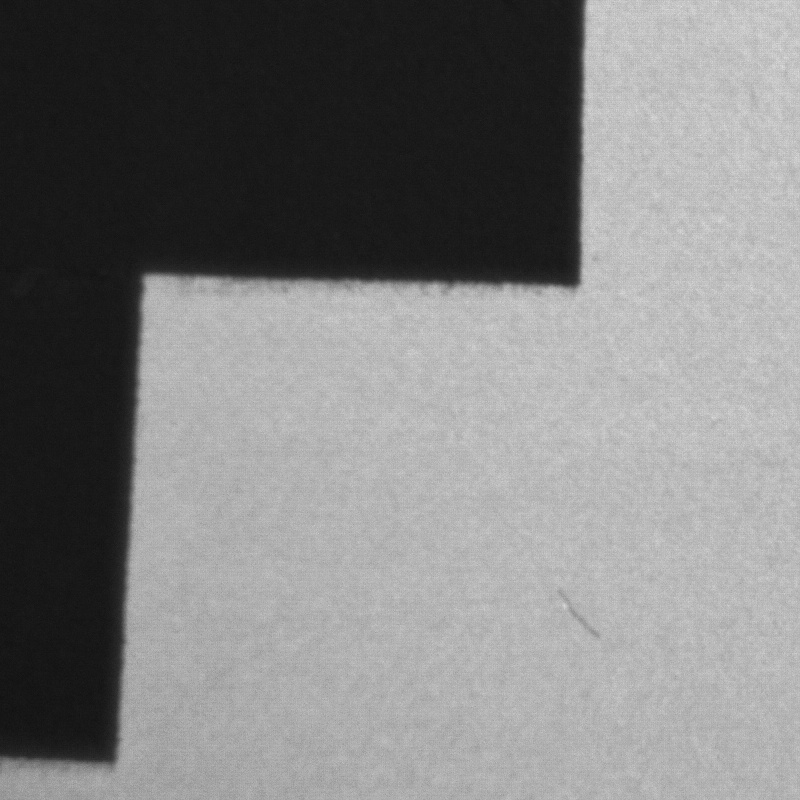defect: (559, 590, 603, 642)
